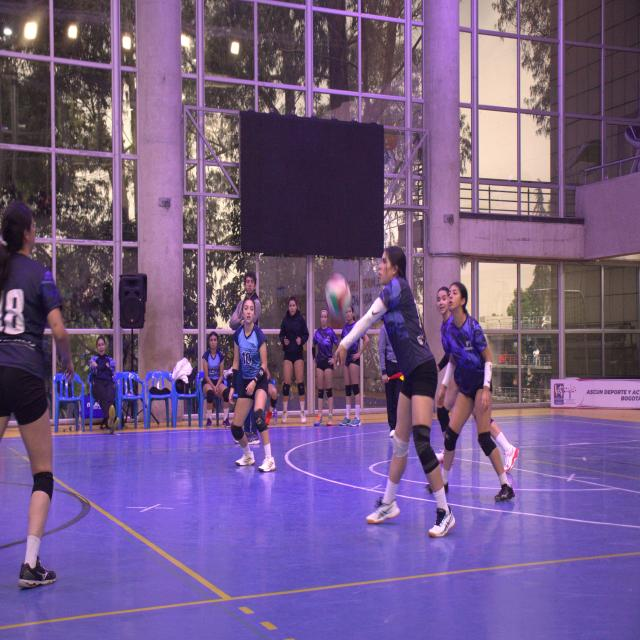volleyball: (324, 274, 351, 320)
